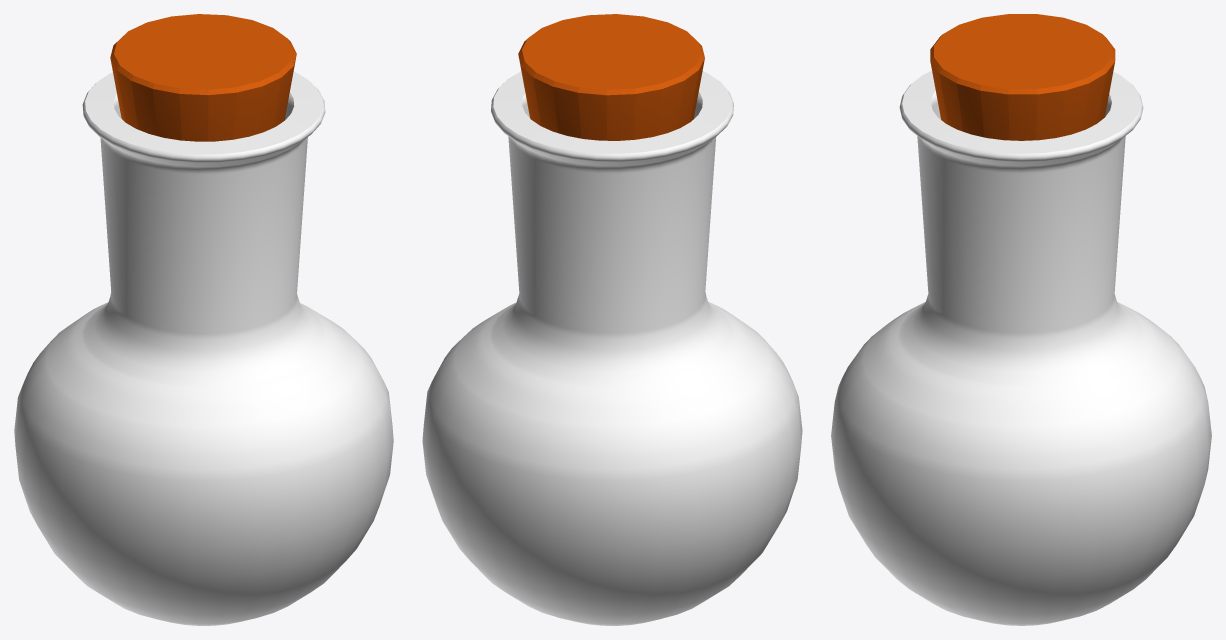
Rendered from potion.fbx.
The picture shows the model from 3 angles, left to right: view 1: azimuth 30°, elevation 25°; view 2: azimuth 150°, elevation 25°; view 3: azimuth 270°, elevation 25°; orthographic projection.
Parts seen in each view (by area): view 1: Sphere001, Gengon001; view 2: Sphere001, Gengon001; view 3: Sphere001, Gengon001.
Boxes of the visible parts, x1,y1,x2,y2 form: Sphere001: [14, 71, 393, 625]; Gengon001: [110, 14, 296, 141]; Sphere001: [422, 71, 802, 625]; Gengon001: [518, 14, 704, 140]; Sphere001: [831, 70, 1211, 625]; Gengon001: [930, 14, 1115, 140].
Size of the model in its own units: 10.83 by 17.47 by 10.83.
